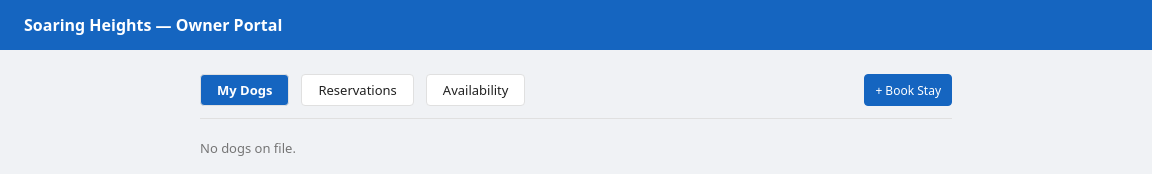
Test: PortalHome — Reservations tab › shows "No reservations found" when list is empty
Expected: the button "My Dogs" is shown, left=200, top=74, right=289, bottom=106
Click the button "Reservations": [358, 90] box left=301, top=74, right=414, bottom=106
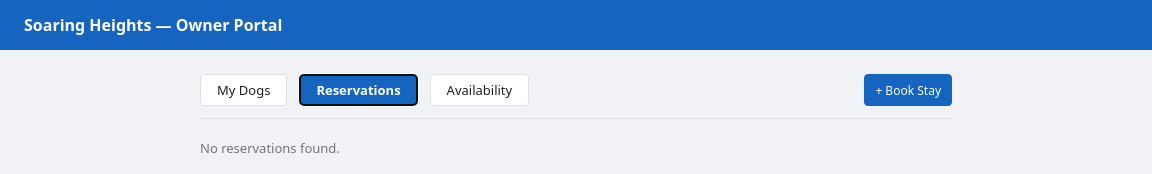
Expected: the text "No reservations found." is shown, left=200, top=139, right=340, bottom=157
